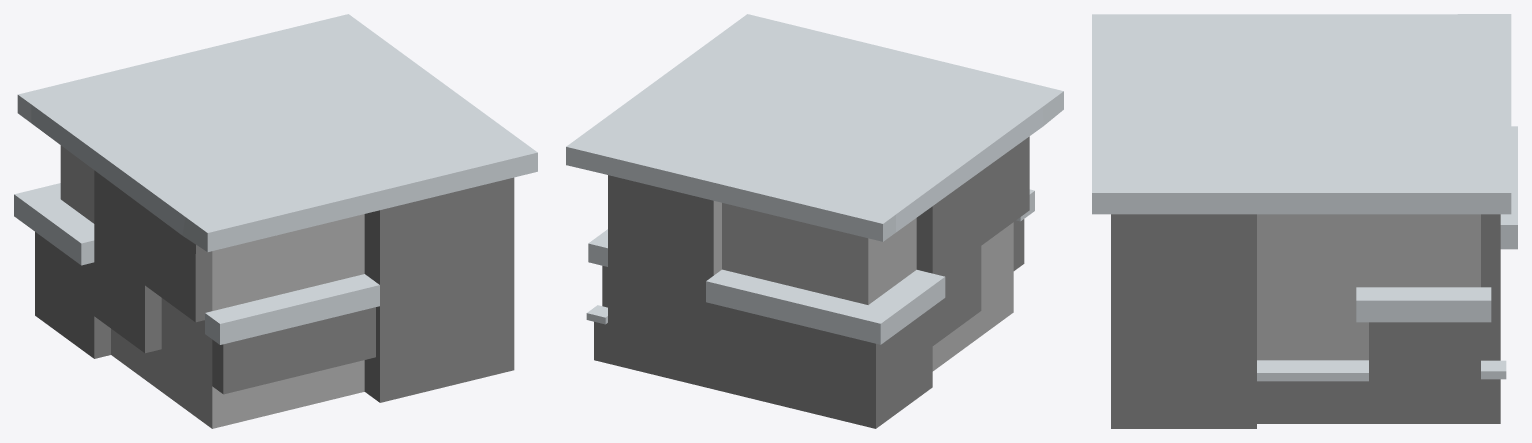
Rendered from monton_aire_nev.obj.
The picture shows the model from 3 angles, left to right: view 1: azimuth 30°, elevation 25°; view 2: azimuth 150°, elevation 25°; view 3: azimuth 270°, elevation 25°; orthographic projection. The views are drawn at different scales.
Visible parts, largest first — view 1: Cube.237; view 2: Cube.237; view 3: Cube.237.
Boxes of the visible parts, box(x1,y1,x2,y2) form: Cube.237: box(14, 14, 537, 428); Cube.237: box(566, 14, 1063, 428); Cube.237: box(1092, 14, 1517, 428).
Size of the model in its own units: 2.53 by 1.6 by 2.53.
